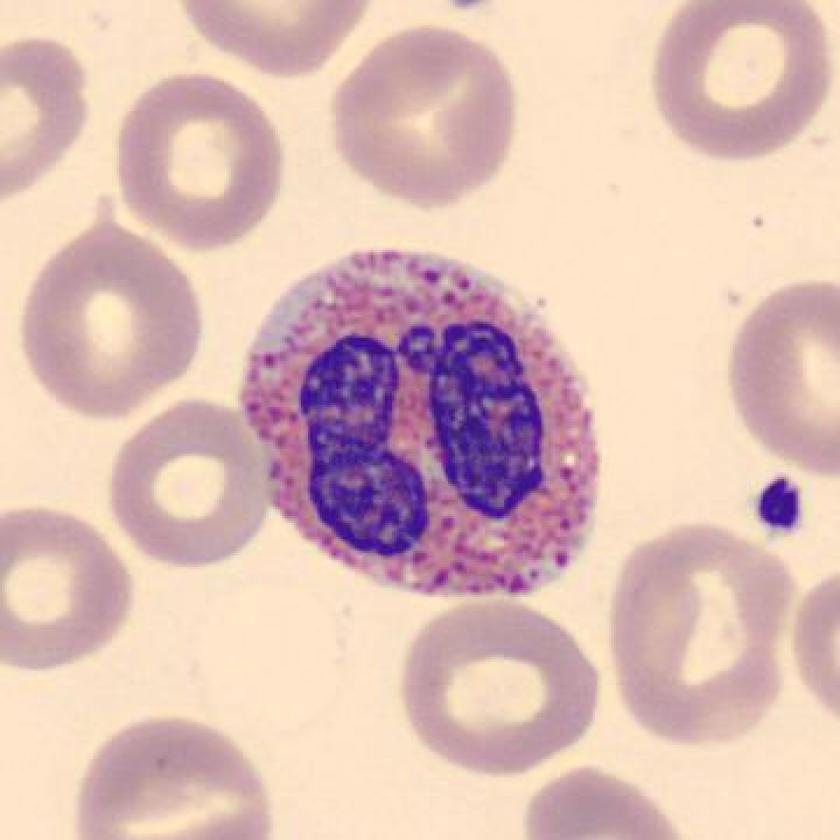eosinophil: (232, 230, 608, 637)
